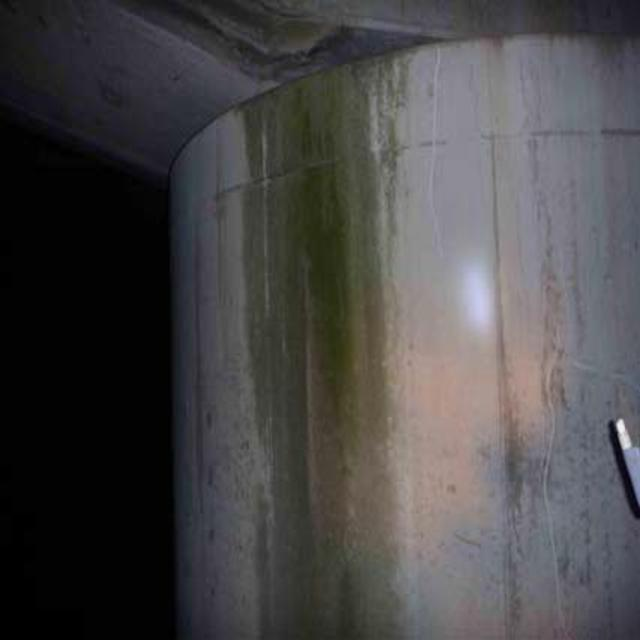leakage: (229, 45, 404, 640)
